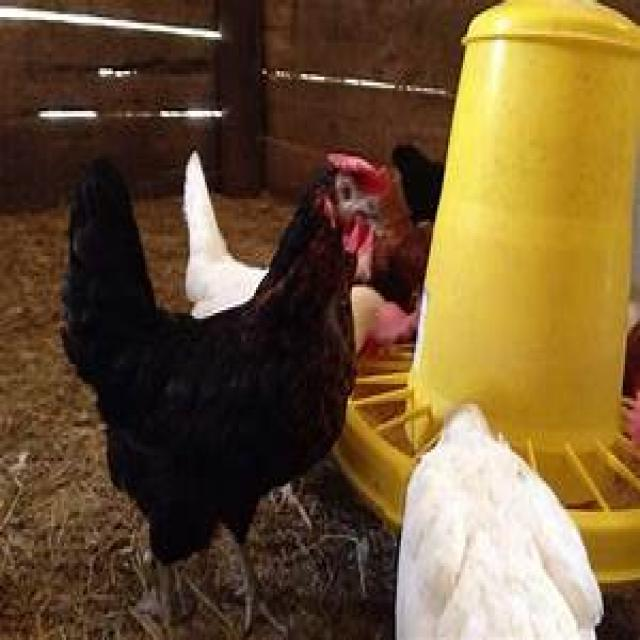hen: (58, 159, 358, 626)
